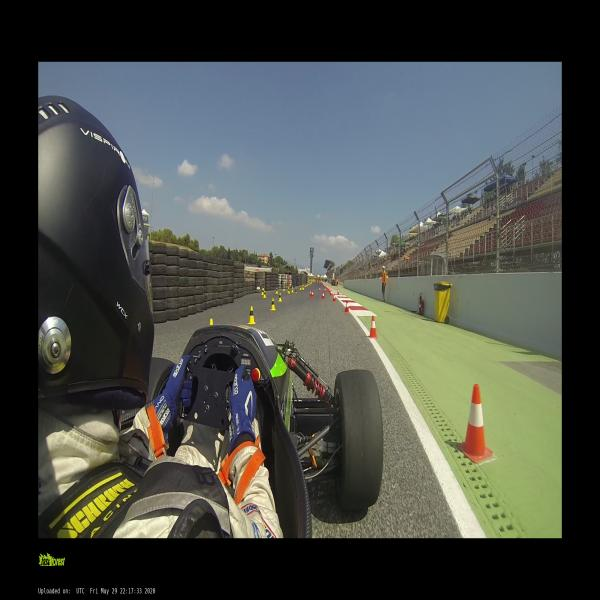orange_cone: (458, 383, 493, 463), (368, 316, 378, 338), (344, 301, 349, 312), (333, 294, 336, 302), (321, 293, 325, 299), (329, 290, 333, 296), (311, 291, 314, 297), (318, 287, 321, 292), (309, 291, 312, 296), (324, 288, 326, 293), (338, 289, 339, 295)
yellow_cone: (248, 307, 256, 324), (269, 298, 276, 310), (278, 293, 282, 302), (261, 288, 264, 296), (263, 291, 266, 298), (210, 319, 213, 326), (287, 288, 290, 294), (275, 288, 278, 294), (291, 287, 293, 293), (283, 286, 285, 292), (295, 288, 297, 293)
